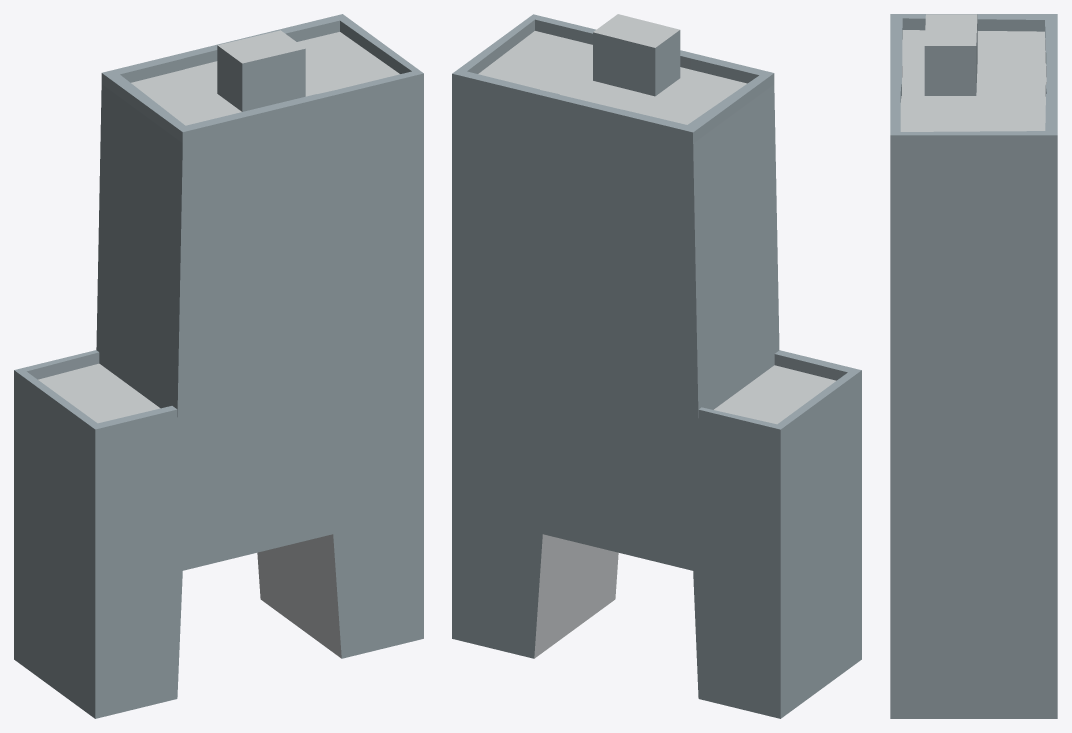
File: Hochhaus3.fbx
The picture shows the model from 3 angles, left to right: view 1: azimuth 30°, elevation 25°; view 2: azimuth 150°, elevation 25°; view 3: azimuth 270°, elevation 25°; orthographic projection. The views are drawn at different scales.
Visible parts, largest first — view 1: mesh_1451561933; view 2: mesh_1451561933; view 3: mesh_1451561933.
Boxes of the visible parts, x1,y1,x2,y2 form: mesh_1451561933: [14, 14, 423, 718]; mesh_1451561933: [452, 14, 861, 718]; mesh_1451561933: [890, 14, 1057, 718].
Size of the model in its own units: 92.25 by 162 by 39.48.
